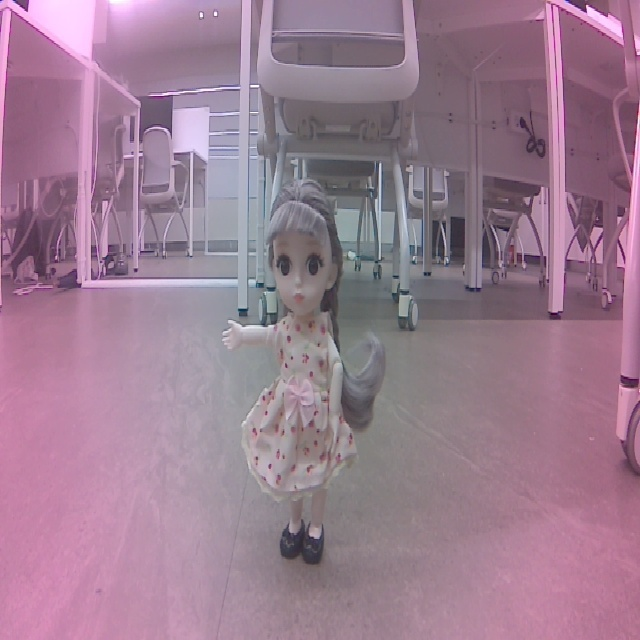장애물: (204, 172, 393, 576)
